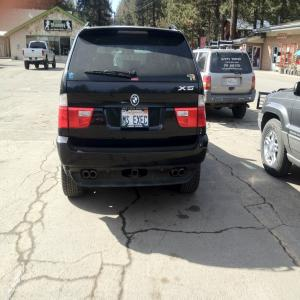Vehicle-registration-plate: (122, 107, 150, 129), (228, 79, 238, 86), (33, 58, 36, 61)
